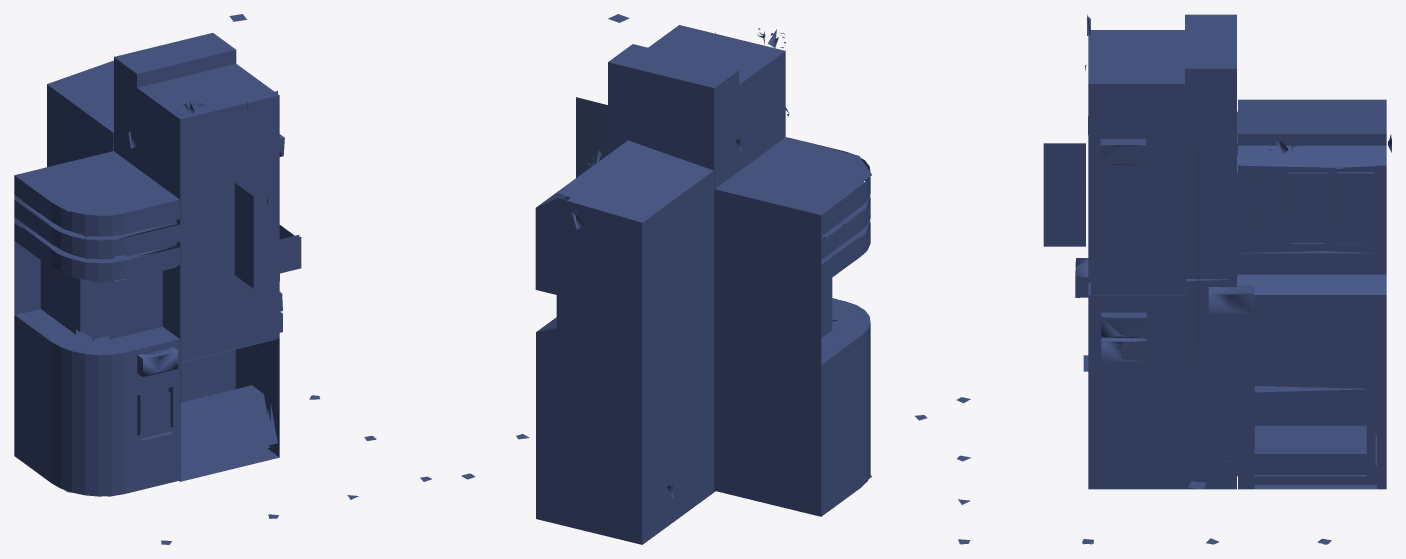
File: DXPB.glb
3 views of the same model, side by side, from view 1: azimuth 30°, elevation 25°; view 2: azimuth 150°, elevation 25°; view 3: azimuth 270°, elevation 25° (orthographic). The views are drawn at different scales.
Visible parts, largest first — view 1: joined Building; view 2: joined Building; view 3: joined Building.
Boxes of the visible parts, <box> form: joined Building: <box>14,14,431,544</box>; joined Building: <box>461,14,927,544</box>; joined Building: <box>956,14,1391,544</box>.
Size of what is drawn, in the model's own units: 7.34 by 9.62 by 8.39.
